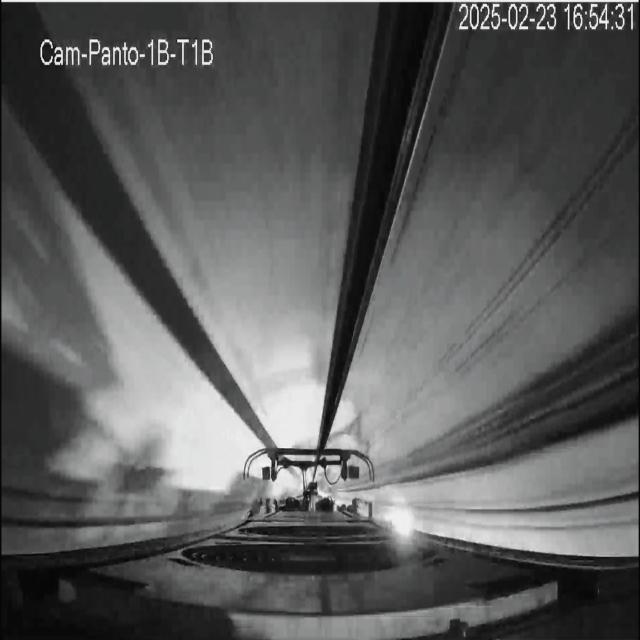Camera Stamp: (41, 37, 216, 70)
Date Stamp: (453, 1, 632, 33)
No - Spark: (245, 446, 373, 511)
